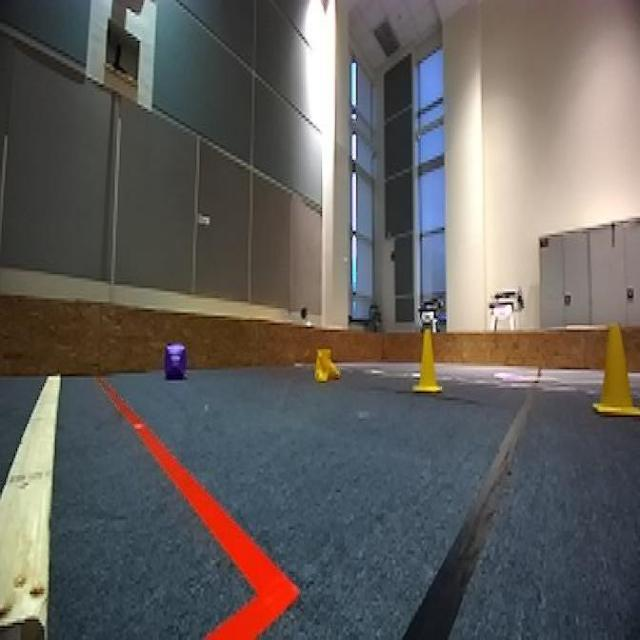frc_cone: (592, 325, 638, 417), (411, 325, 445, 395), (312, 347, 344, 383)
frc_cube: (162, 340, 188, 380)
